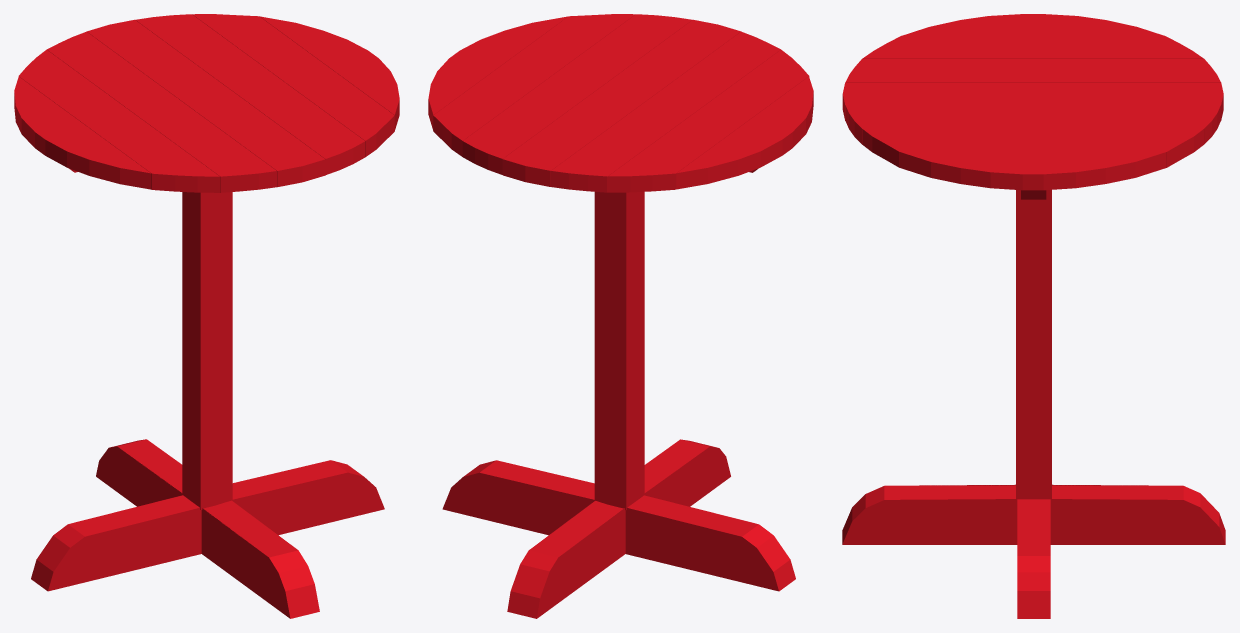
Rendered from taburet.fbx.
3 views of the same model, side by side, from view 1: azimuth 30°, elevation 25°; view 2: azimuth 150°, elevation 25°; view 3: azimuth 270°, elevation 25° (orthographic).
Visible parts, largest first — view 1: medieval_wooden_round small table_low.001; view 2: medieval_wooden_round small table_low.001; view 3: medieval_wooden_round small table_low.001.
Boxes of the visible parts, x1,y1,x2,y2 form: medieval_wooden_round small table_low.001: (14, 14, 399, 618); medieval_wooden_round small table_low.001: (428, 14, 813, 618); medieval_wooden_round small table_low.001: (842, 14, 1225, 618).
Size of the model in its own units: 120 by 153 by 120.
